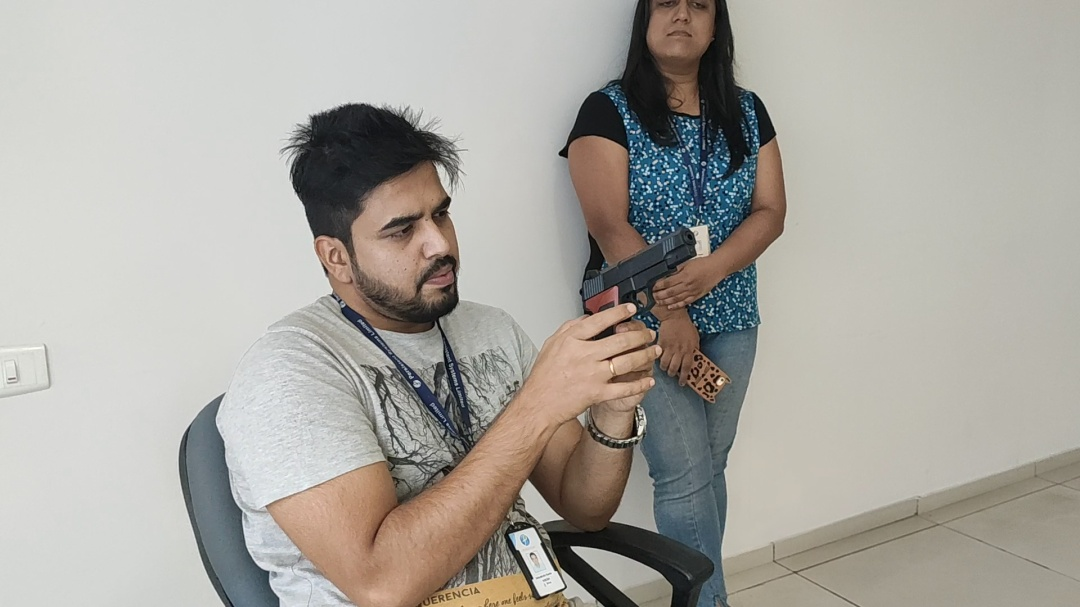gun: (321, 50, 677, 543)
